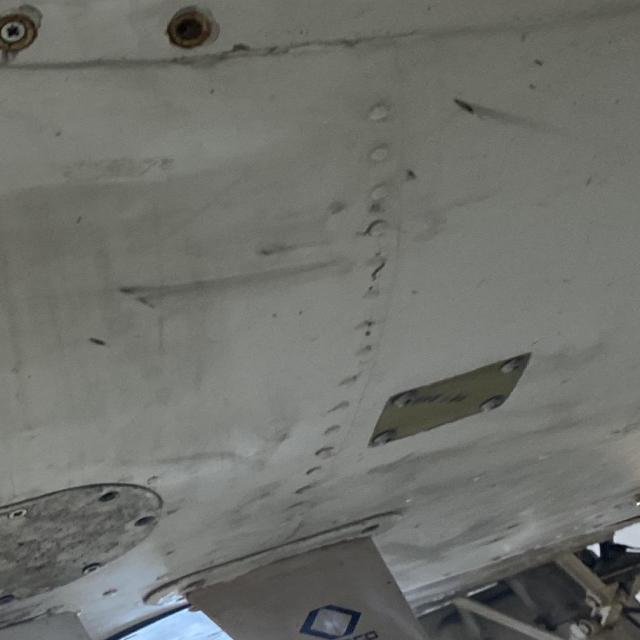Missing-head: (166, 6, 218, 49), (98, 489, 121, 504), (131, 515, 157, 527)
